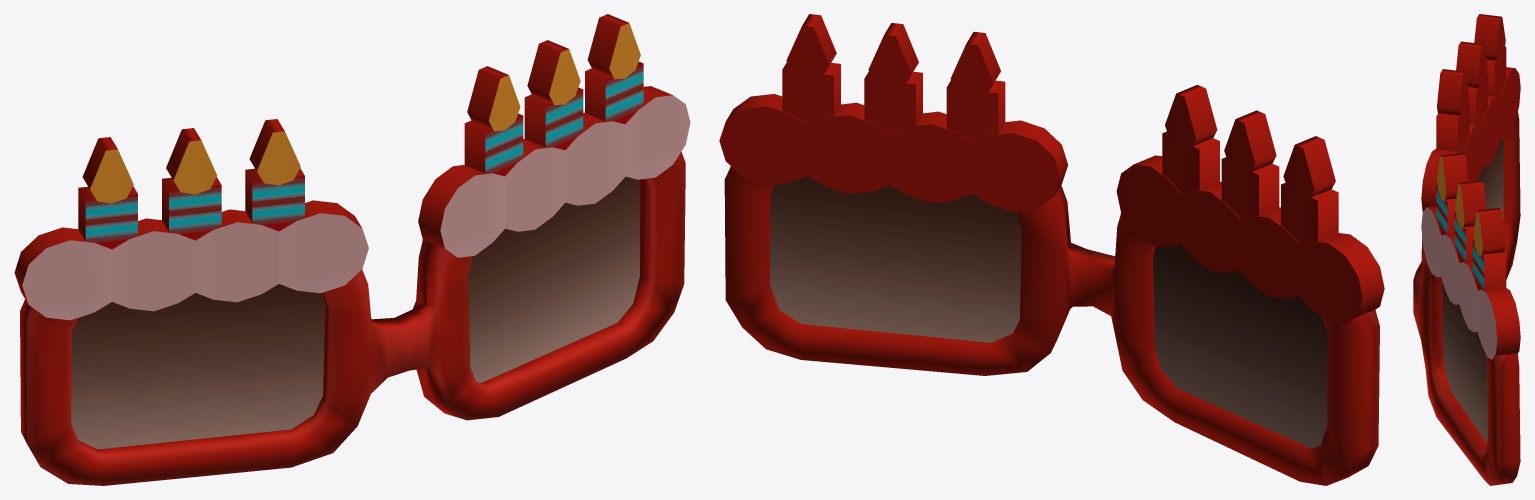
The model's file is AccessoryGlassBirthday2.glb.
3 views of the same model, side by side, from view 1: azimuth 30°, elevation 25°; view 2: azimuth 150°, elevation 25°; view 3: azimuth 270°, elevation 25° (orthographic). The views are drawn at different scales.
Visible parts, largest first — view 1: Accessory__mAccessory, AccessoryAlpha1__mAccessoryAlpha; view 2: Accessory__mAccessory, AccessoryAlpha1__mAccessoryAlpha; view 3: Accessory__mAccessory, AccessoryAlpha1__mAccessoryAlpha.
Part boxes in pixels (x1=…): Accessory__mAccessory: x1=14, y1=14, x2=690, y2=485; AccessoryAlpha1__mAccessoryAlpha: x1=71, y1=176, x2=639, y2=449; Accessory__mAccessory: x1=719, y1=14, x2=1384, y2=485; AccessoryAlpha1__mAccessoryAlpha: x1=770, y1=176, x2=1327, y2=448; Accessory__mAccessory: x1=1413, y1=14, x2=1520, y2=485; AccessoryAlpha1__mAccessoryAlpha: x1=1442, y1=138, x2=1503, y2=442.
Size of the model in its own units: 5.81 by 2.8 by 1.03.
2 materials, 2 textured.
